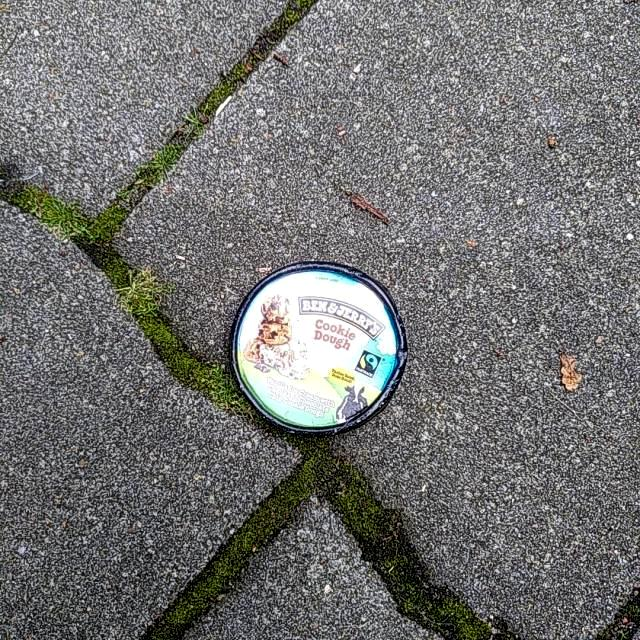Paper: (226, 256, 410, 439)
